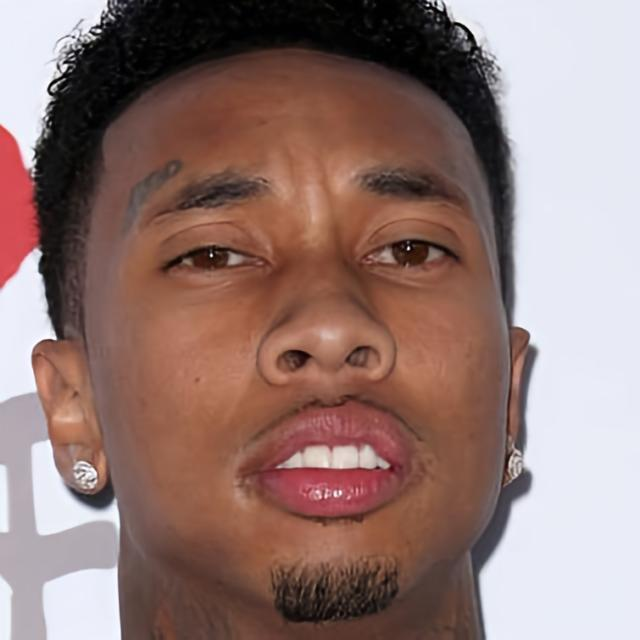neutral: (87, 44, 513, 622)
